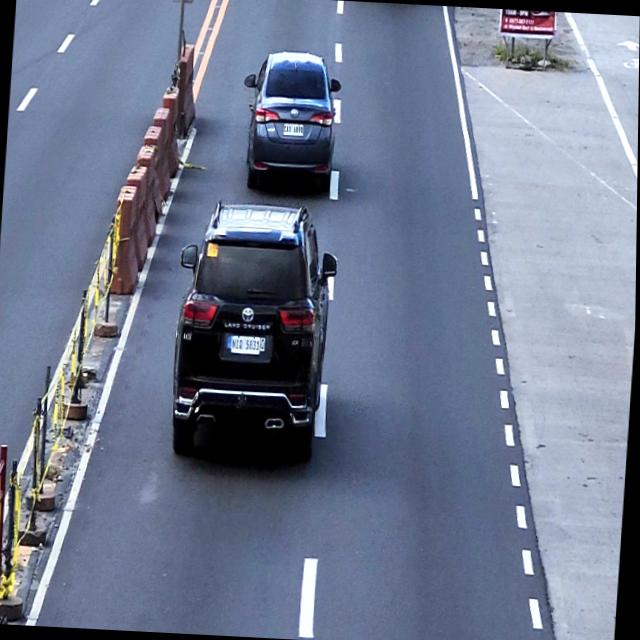Car: (165, 196, 341, 469), (238, 47, 344, 199)
License-Plate: (230, 334, 262, 356), (282, 121, 305, 138)
